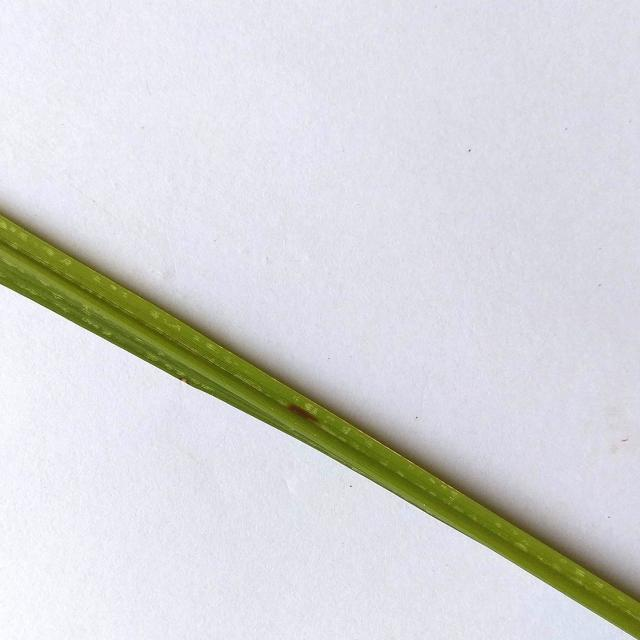brownspots: (280, 390, 328, 432)
